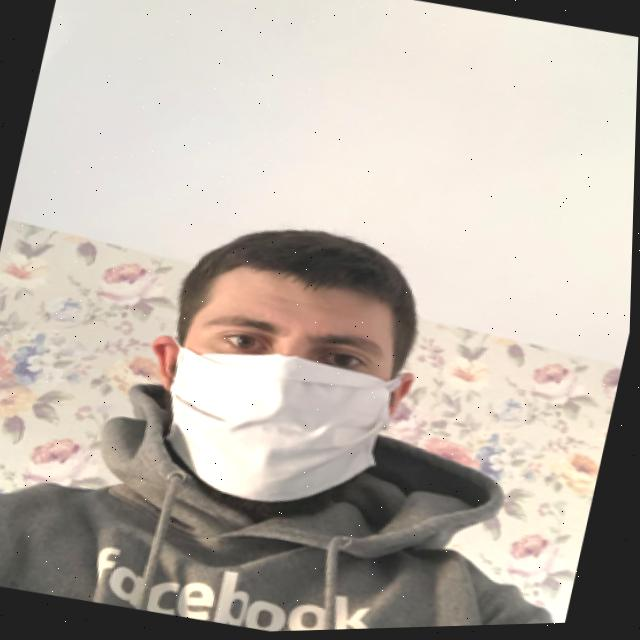Mask: (125, 298, 427, 536)
